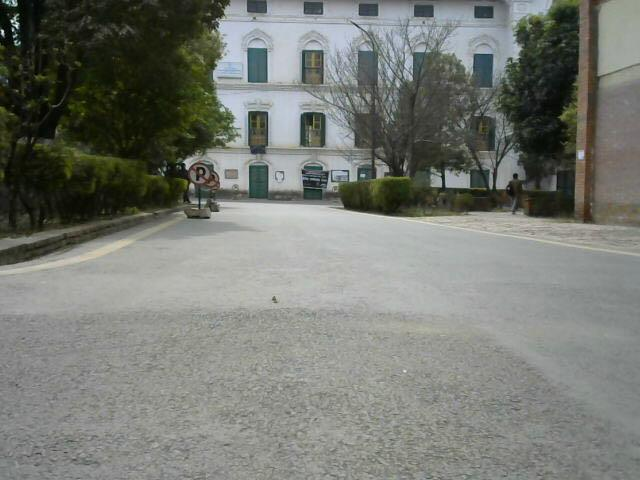Building: (224, 3, 302, 201), (577, 0, 640, 230)
Road: (0, 196, 640, 480)
Traffic sign: (179, 157, 217, 224)
Tree: (1, 0, 194, 226), (303, 28, 479, 183), (505, 4, 581, 161)
